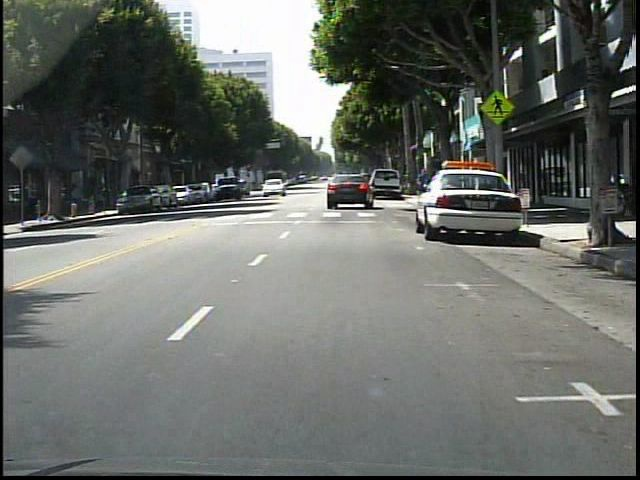person: (414, 165, 435, 205)
